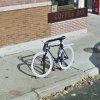Bicycle: (27, 34, 76, 83)
